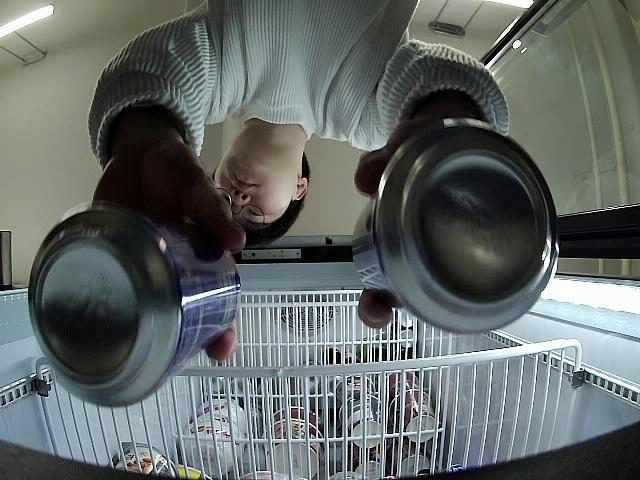14_welchsGrape: (352, 126, 558, 336), (28, 207, 238, 410)
